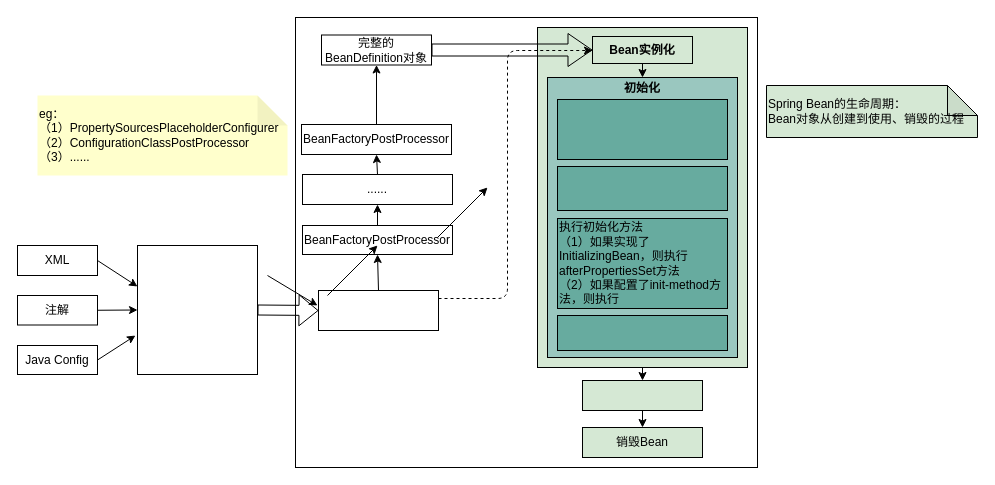
Image size: 995x485. Some labels were removed from this diagram. Each missing label, with the centre of its shape:
"BeanDefinition" goes at (x=378, y=310).
"BeanDefinitionReader 读取Bean定义配置的接口或者说规范约束" goes at (x=197, y=309).
"使用Bean" goes at (x=642, y=395).
"属性赋值 （1）自定义属性赋值 （2）容器属性赋值 eg:BeanFacotry等" goes at (x=642, y=129).
"执行BeanPostProcessor的前置增强处理。 eg：设置Environment等容器属性" goes at (x=642, y=188).
"执行BeanPostProcessor的后置增强处理。 eg：AOP" goes at (x=642, y=332).
